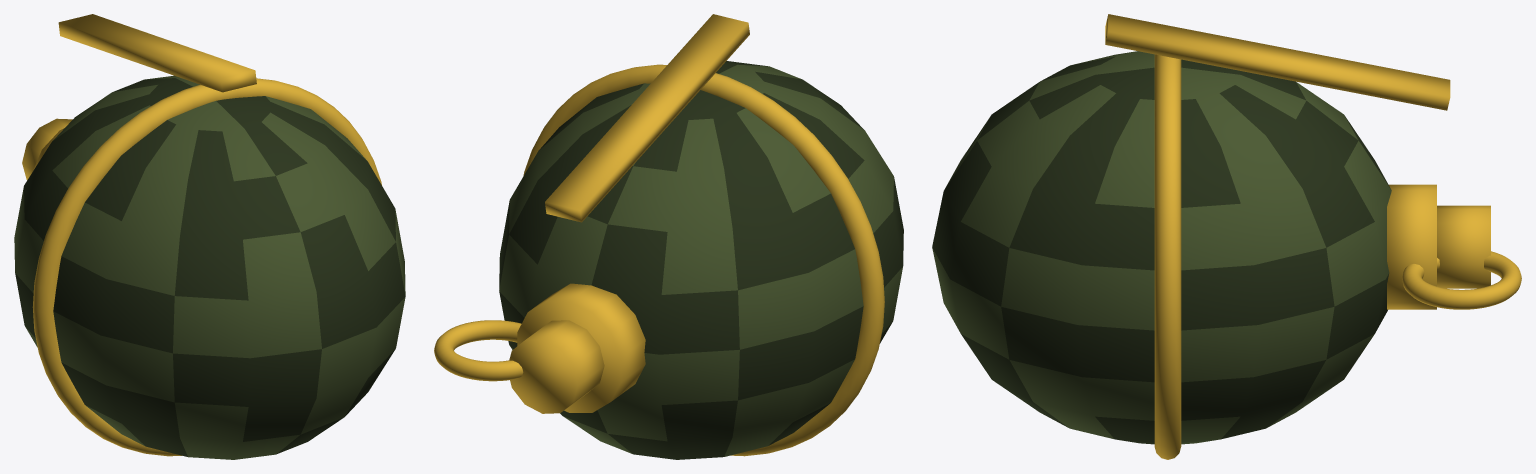
Rendered from golden_grenade.glb.
3 views of the same model, side by side, from view 1: azimuth 30°, elevation 25°; view 2: azimuth 150°, elevation 25°; view 3: azimuth 270°, elevation 25° (orthographic). The views are drawn at different scales.
Visible parts, largest first — view 1: Grenade; view 2: Grenade; view 3: Grenade.
Part boxes in pixels (box(x1,y1,x2,y2)): Grenade: box(14, 14, 405, 459); Grenade: box(434, 14, 903, 459); Grenade: box(932, 14, 1521, 459).
Bounding box in the file's own units: 0.512 × 0.5533 × 0.7084.
